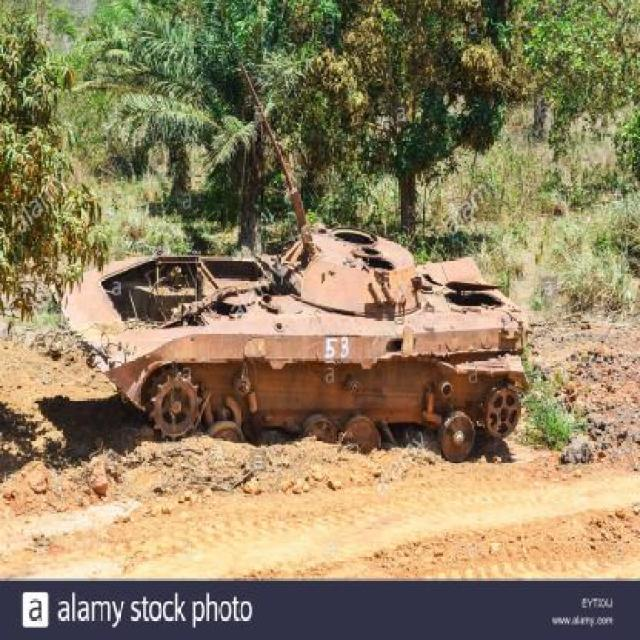corrosion: (65, 217, 528, 469)
